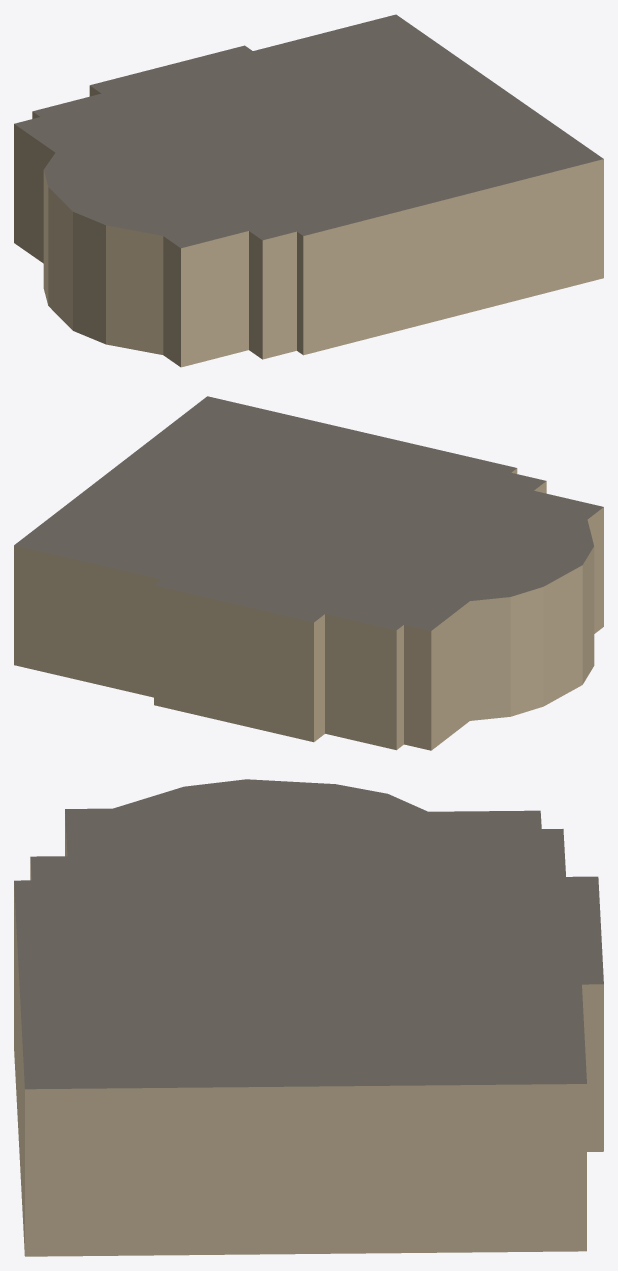
3 views of the same model, one above another, from view 1: azimuth 30°, elevation 25°; view 2: azimuth 150°, elevation 25°; view 3: azimuth 270°, elevation 25° (orthographic). The views are drawn at different scales.
Visible parts, largest first — view 1: HP-w1511175634; view 2: HP-w1511175634; view 3: HP-w1511175634.
Boxes of the visible parts, x1=… form: HP-w1511175634: x1=14, y1=14, x2=603, y2=367; HP-w1511175634: x1=14, y1=396, x2=603, y2=750; HP-w1511175634: x1=14, y1=779, x2=603, y2=1256.
Bounding box in the file's own units: 52.41 × 13.2 × 42.15.
